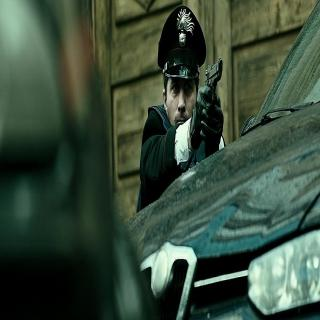gun: (196, 55, 230, 141)
